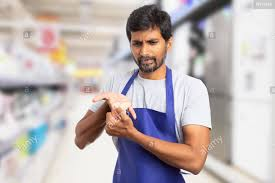Indian_Male: (125, 17, 164, 66)
